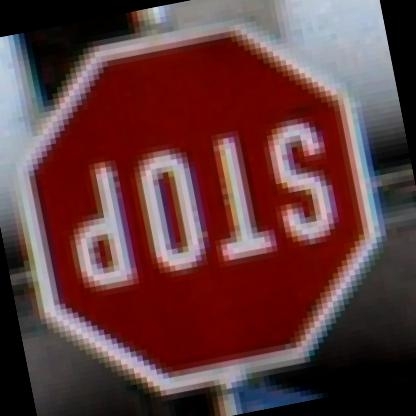stop: (0, 0, 415, 410)
